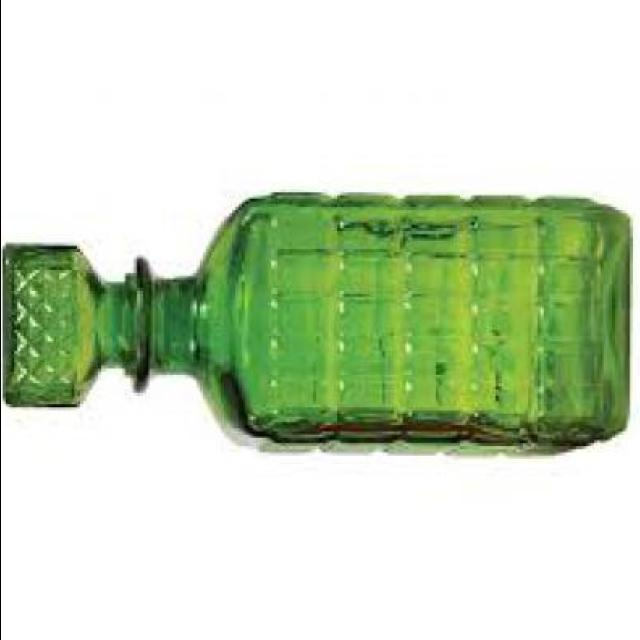kaca: (0, 189, 625, 460)
